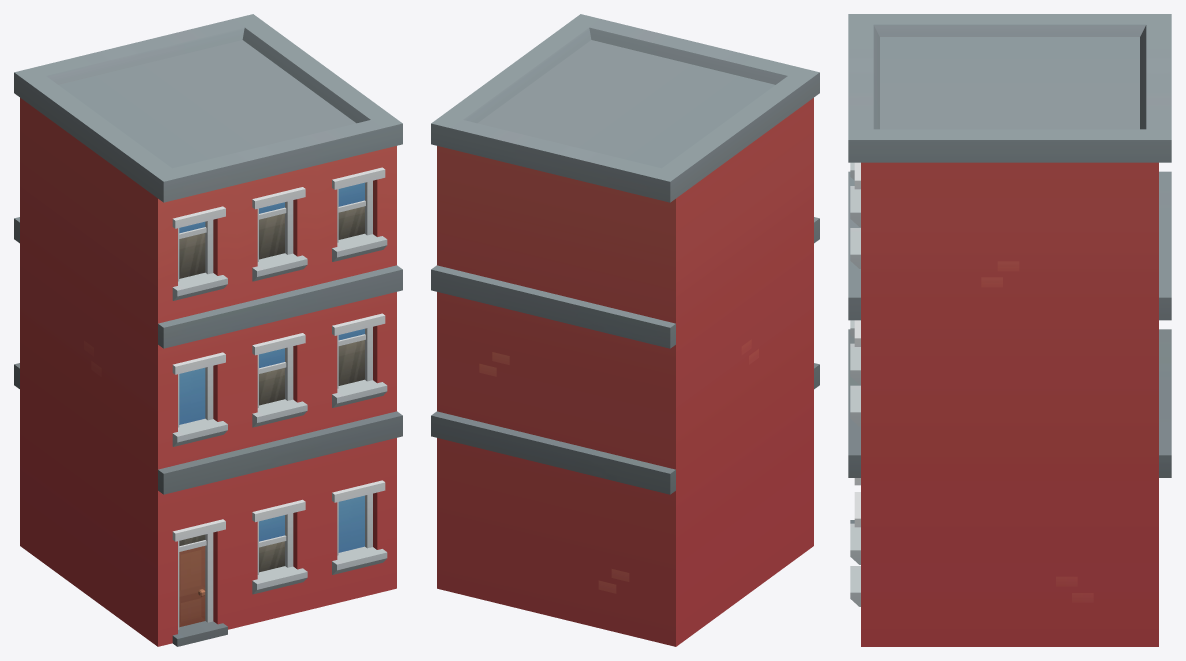
The model's file is building_C_withoutBase.glb.
3 renders of one model, left to right at view 1: azimuth 30°, elevation 25°; view 2: azimuth 150°, elevation 25°; view 3: azimuth 270°, elevation 25°, orthographic. The views are drawn at different scales.
Visible parts, largest first — view 1: building_C_withoutBase; view 2: building_C_withoutBase; view 3: building_C_withoutBase.
Part boxes in pixels (bbox=[...]): building_C_withoutBase: bbox=[14, 14, 402, 646]; building_C_withoutBase: bbox=[431, 14, 819, 646]; building_C_withoutBase: bbox=[848, 14, 1171, 646].
Size of the model in its own units: 1.21 by 2.25 by 1.3.
Materials: 1 (1 with a texture image).
